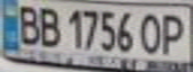1: (60, 6, 84, 48)
5: (97, 7, 118, 53)
6: (115, 8, 139, 54)
7: (78, 7, 100, 51)
B: (12, 1, 42, 46), (33, 3, 63, 47)
O: (136, 10, 166, 55)
P: (157, 10, 190, 55)
